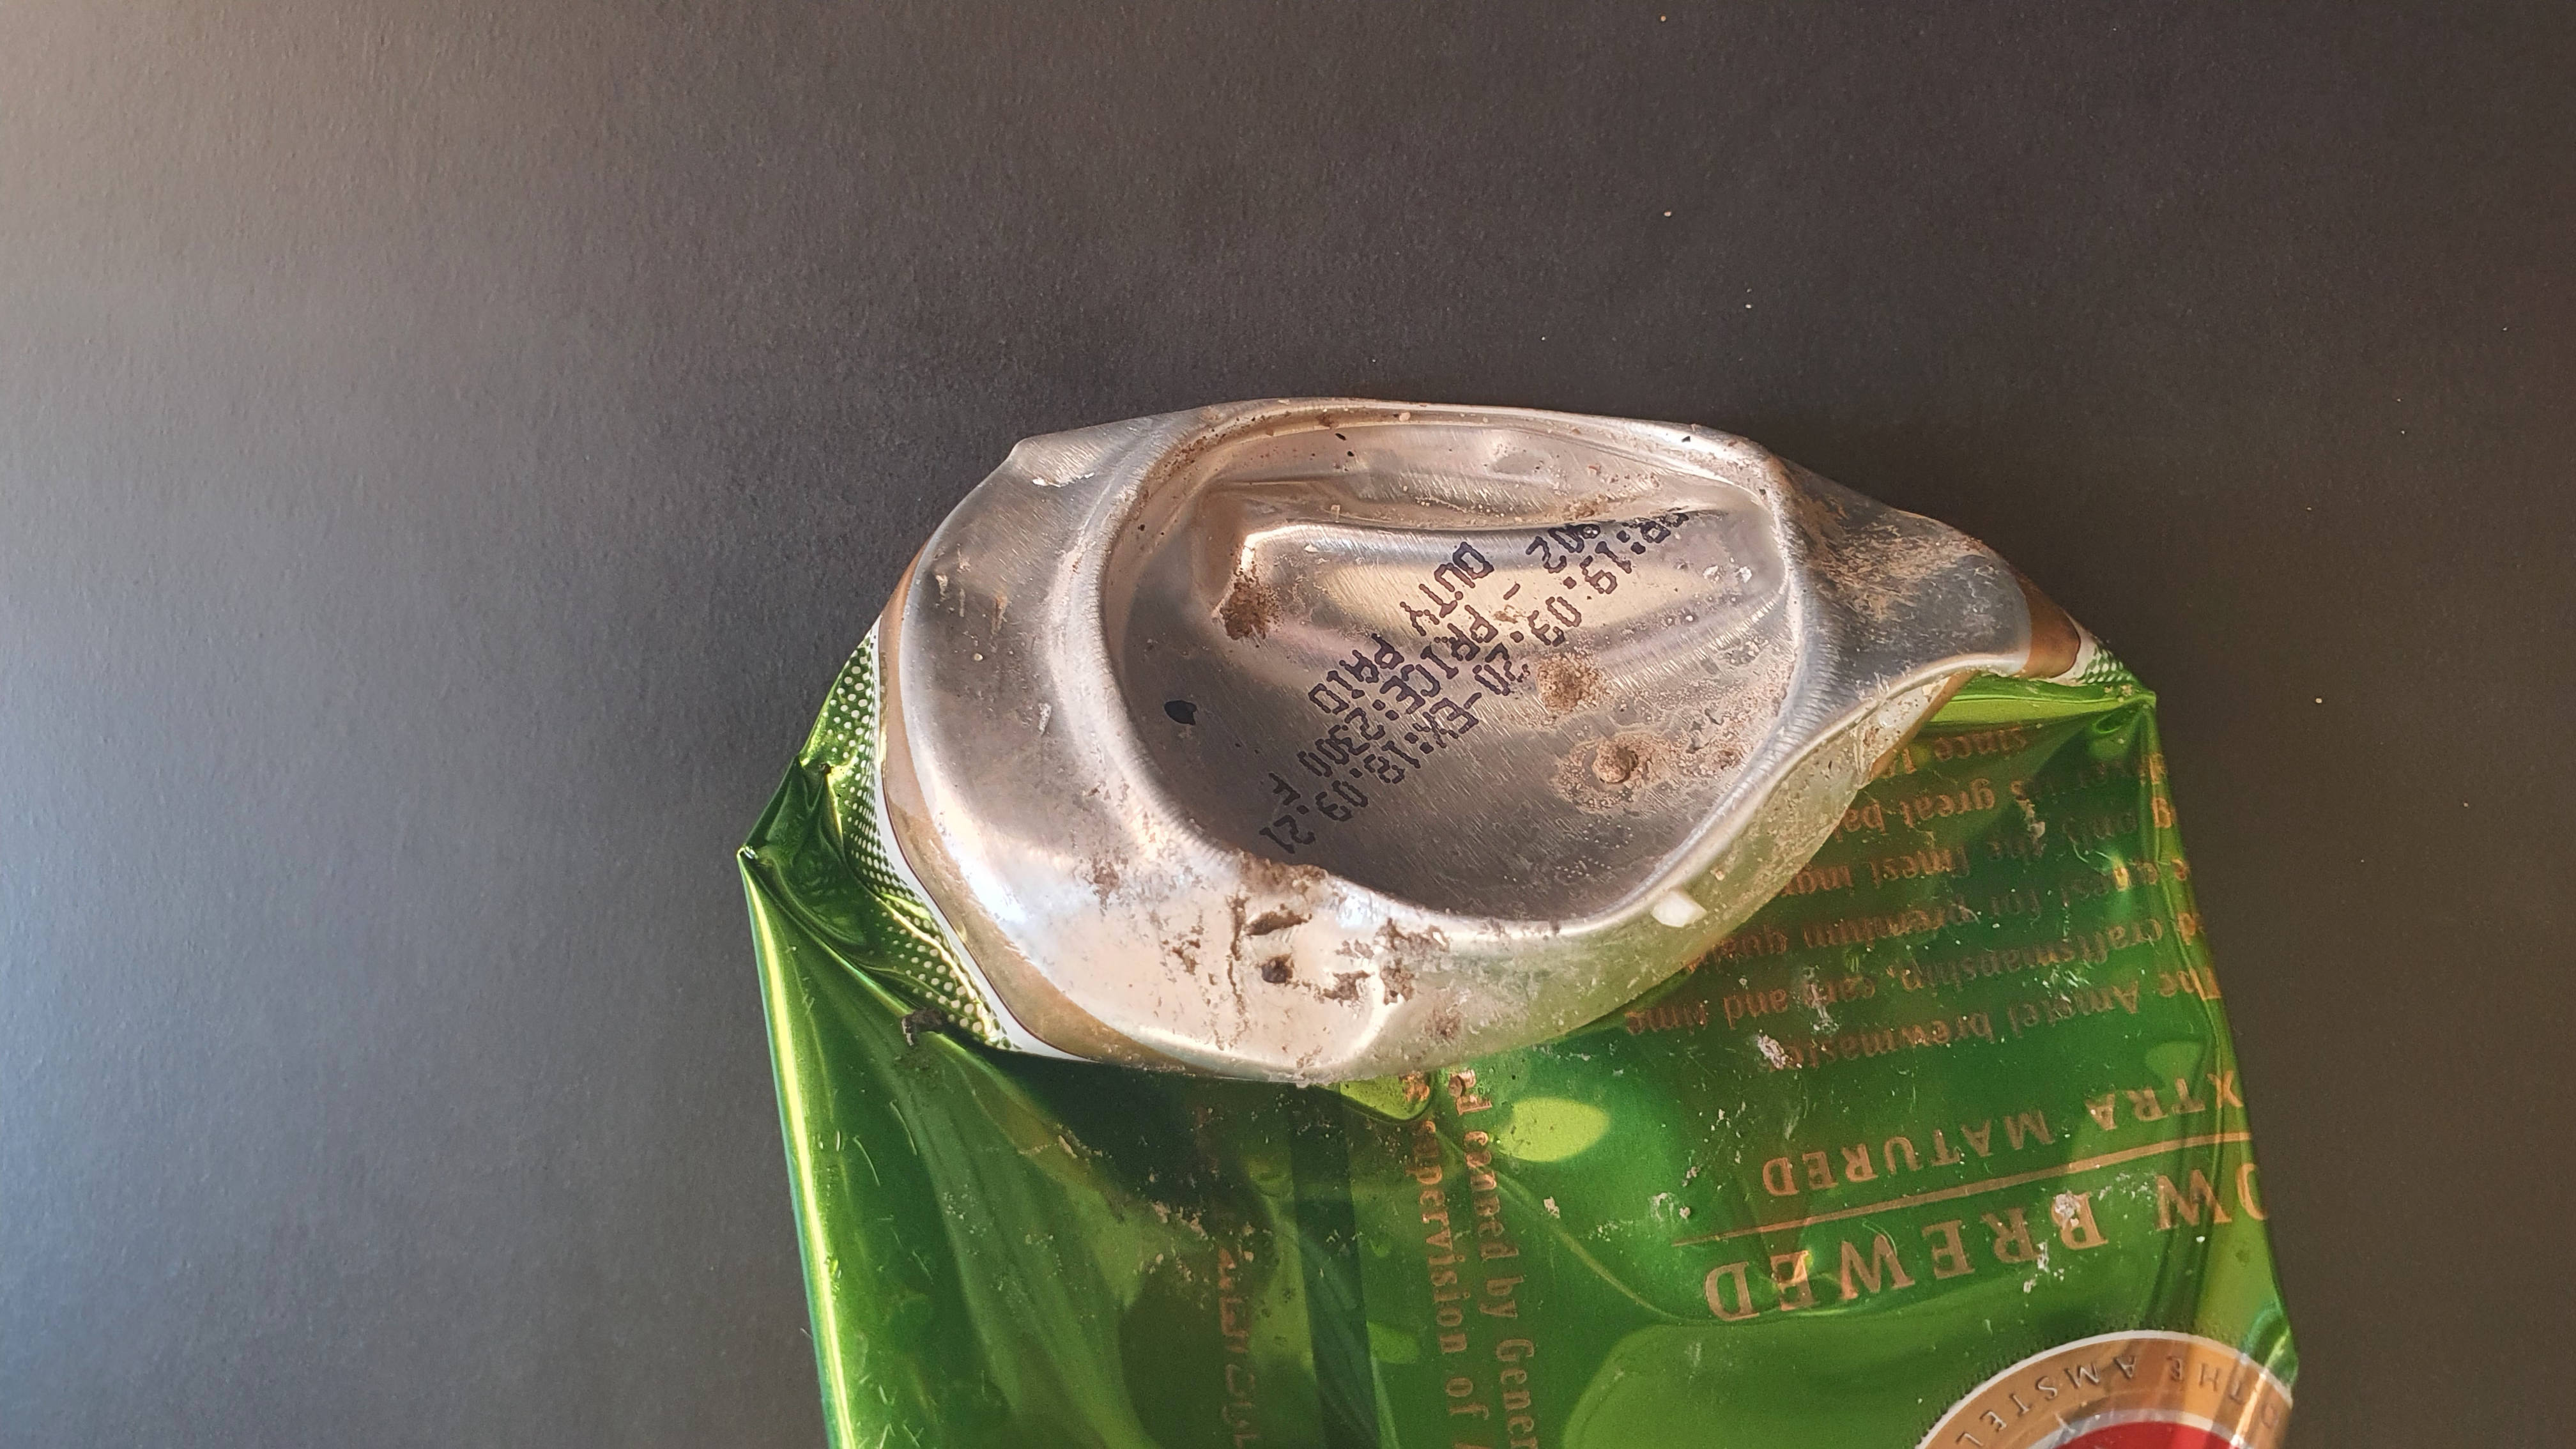metal: (678, 350, 2342, 1449)
